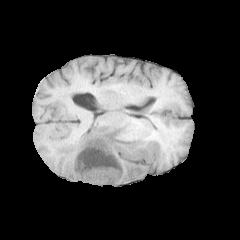glioma: (53, 122, 159, 185)
